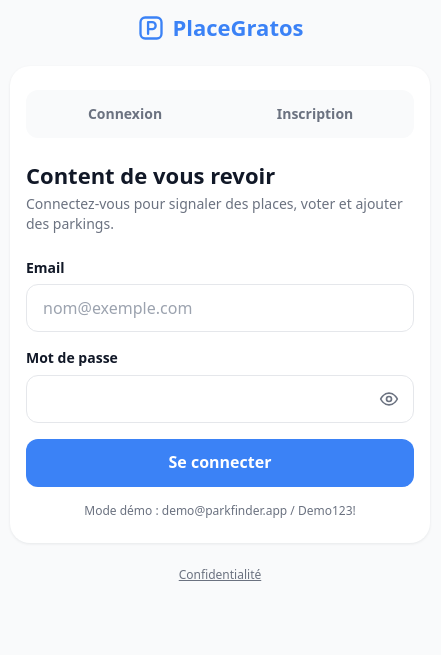
Scenario: LoginPage › affiche un message clair si les identifiants sont refusés
The width and height of the screenshot is (441, 655).
Type "demo@parkfinder.app" into the field labelled "Email" at (220,308), box [27,285,413,331]
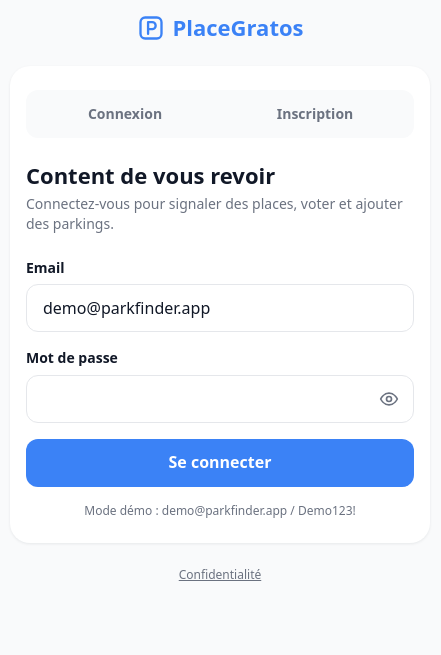
Type "Mauvais1!" into the password field labelled "Mot de passe" at (197,399), box [27,376,367,422]
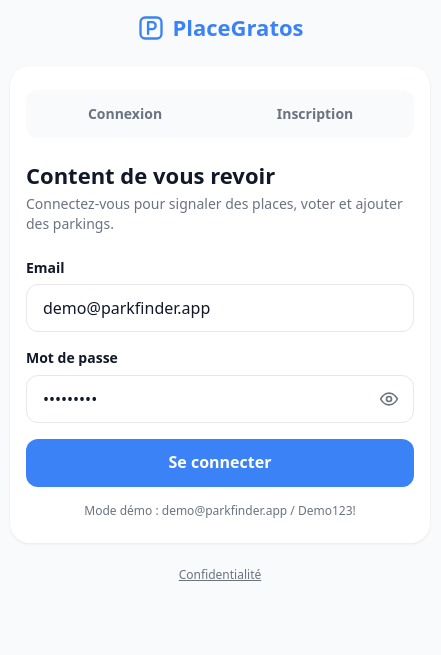
Click the button "Se connecter" at (220,463), box [26,439,414,487]
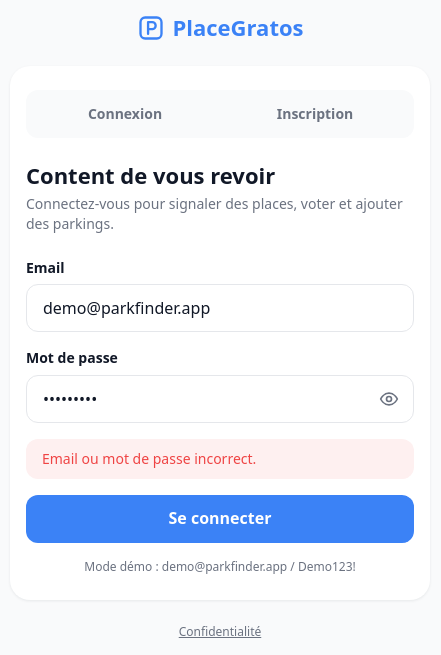
Expected: the message reads "Email ou mot de passe incorrect.", [42,449,256,468]
